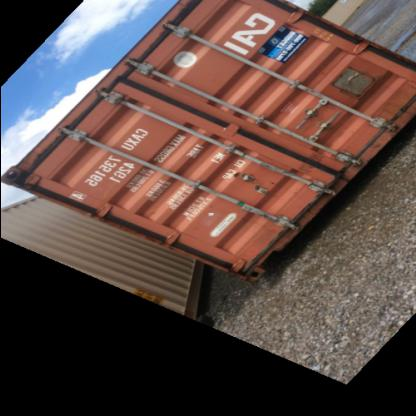Damage: (246, 186, 317, 284), (341, 88, 409, 184), (292, 152, 322, 178)
